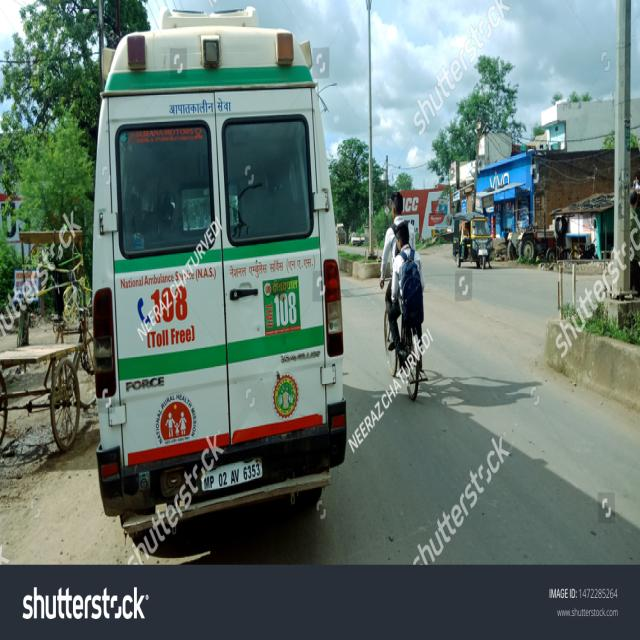ambulance: (92, 9, 347, 536)
